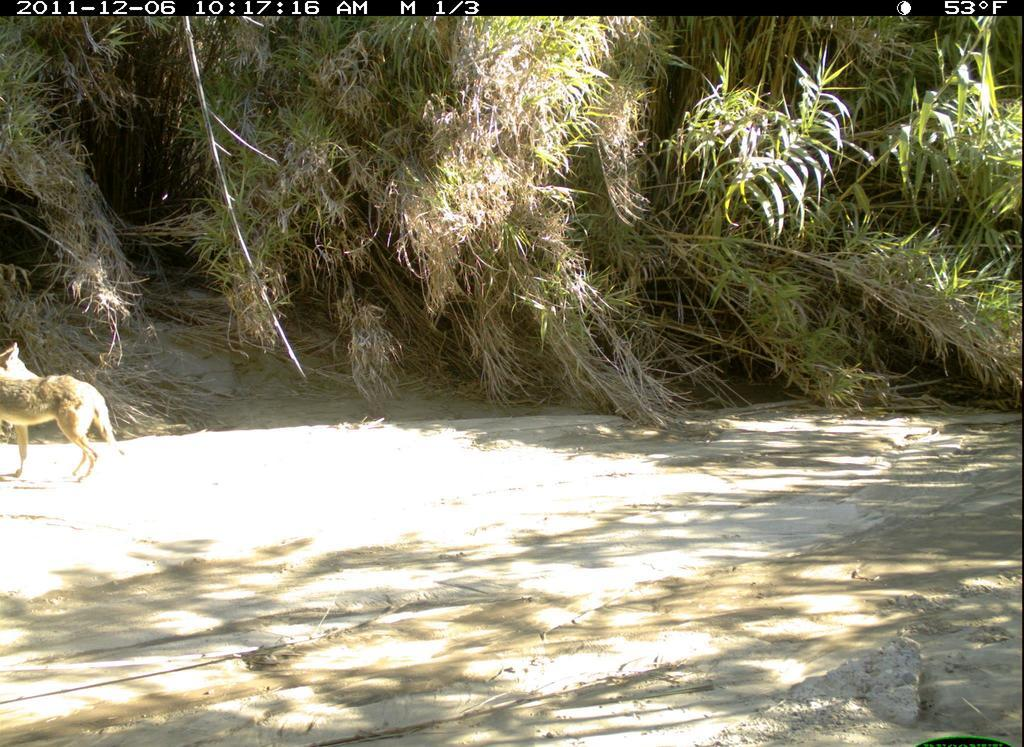coyote: (2, 333, 131, 487)
